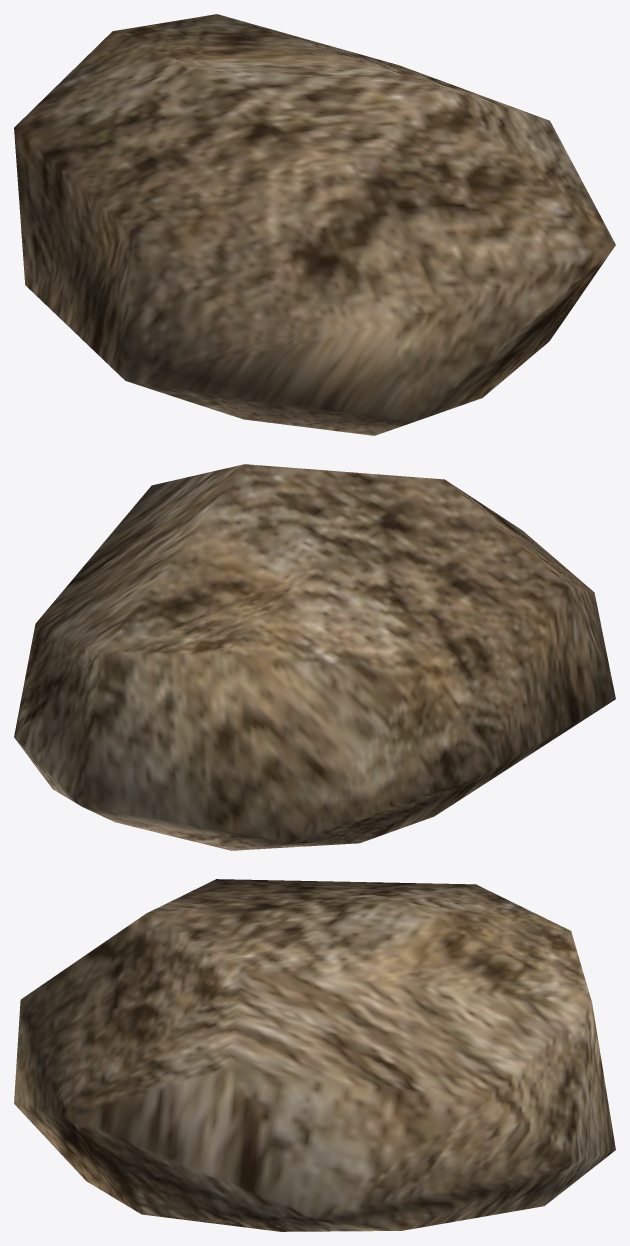
Rendered from stone14_tex1.fbx.
3 renders of one model, top to bottom at view 1: azimuth 30°, elevation 25°; view 2: azimuth 150°, elevation 25°; view 3: azimuth 270°, elevation 25°, orthographic. The views are drawn at different scales.
Parts seen in each view (by area): view 1: stone14_tex1Object; view 2: stone14_tex1Object; view 3: stone14_tex1Object.
Boxes of the visible parts, x1,y1,x2,y2 form: stone14_tex1Object: (14,14,615,435); stone14_tex1Object: (14,464,615,850); stone14_tex1Object: (14,879,615,1231).
Size of the model in its own units: 1.05 by 0.5246 by 1.26.
Materials: 1 (1 with a texture image).
